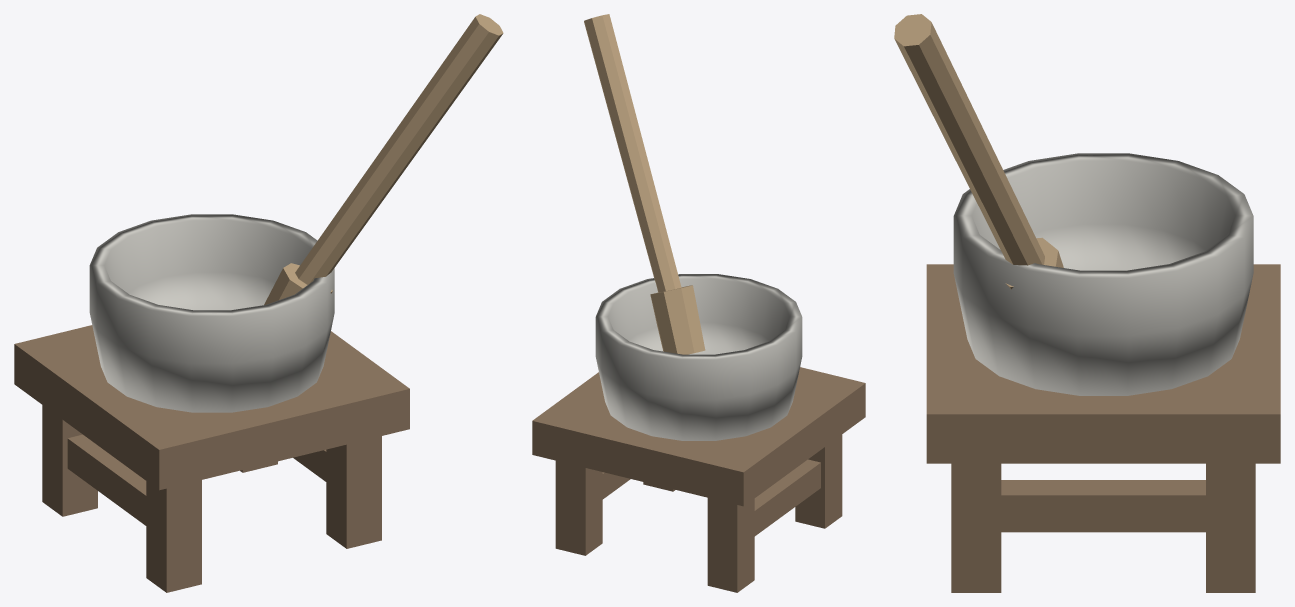
The model's file is korean-hanok-village-and-street-mortar-and-pestle-stan-26fabc1b__38073.glb.
3 views of the same model, side by side, from view 1: azimuth 30°, elevation 25°; view 2: azimuth 150°, elevation 25°; view 3: azimuth 270°, elevation 25° (orthographic). The views are drawn at different scales.
Visible parts, largest first — view 1: mortar-and-pestle-stand; view 2: mortar-and-pestle-stand; view 3: mortar-and-pestle-stand.
Boxes of the visible parts, x1,y1,x2,y2 form: mortar-and-pestle-stand: (14,14,503,592); mortar-and-pestle-stand: (532,14,865,592); mortar-and-pestle-stand: (894,14,1280,592).
Bounding box in the file's own units: 1.05 × 1.52 × 0.8511.
